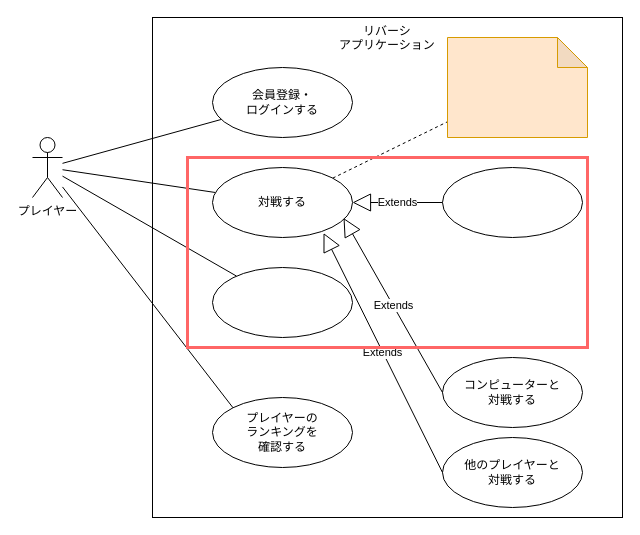
This 640x535 diagram has some shape labels left out. Each missing label, with the box of its shape:
1人で黒白交互に打つ: (442, 166, 582, 238)
・対戦を開始する ・盤面を見る ・石を打つ ・勝敗を確認する: (446, 36, 588, 138)
自分の 過去の対戦結果を 確認する: (212, 266, 352, 338)
